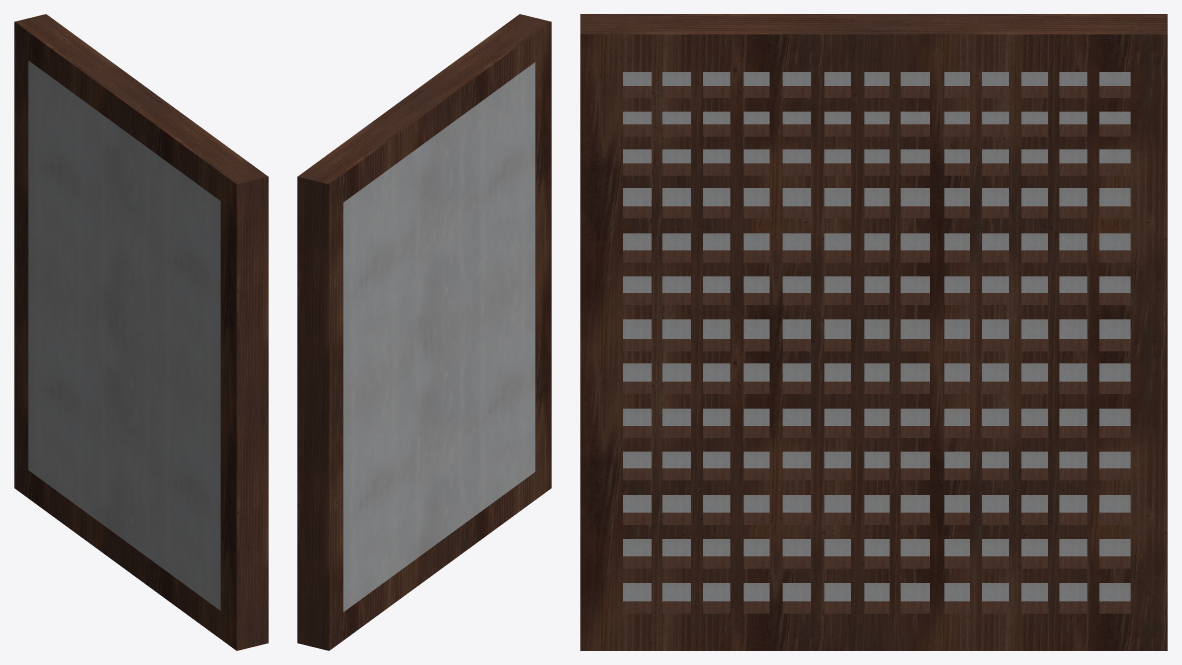
The model's file is SM_WI_Wood_4.fbx.
3 views of the same model, side by side, from view 1: azimuth 30°, elevation 25°; view 2: azimuth 150°, elevation 25°; view 3: azimuth 270°, elevation 25° (orthographic). The views are drawn at different scales.
Parts seen in each view (by area): view 1: SM_WI_Wood_4; view 2: SM_WI_Wood_4; view 3: SM_WI_Wood_4.
Boxes of the visible parts, x1=… form: SM_WI_Wood_4: x1=14, y1=14, x2=268, y2=650; SM_WI_Wood_4: x1=297, y1=14, x2=551, y2=650; SM_WI_Wood_4: x1=580, y1=14, x2=1167, y2=650.
Bounding box in the file's own units: 6.47 × 78.48 × 90.87.
2 materials, 2 textured.
